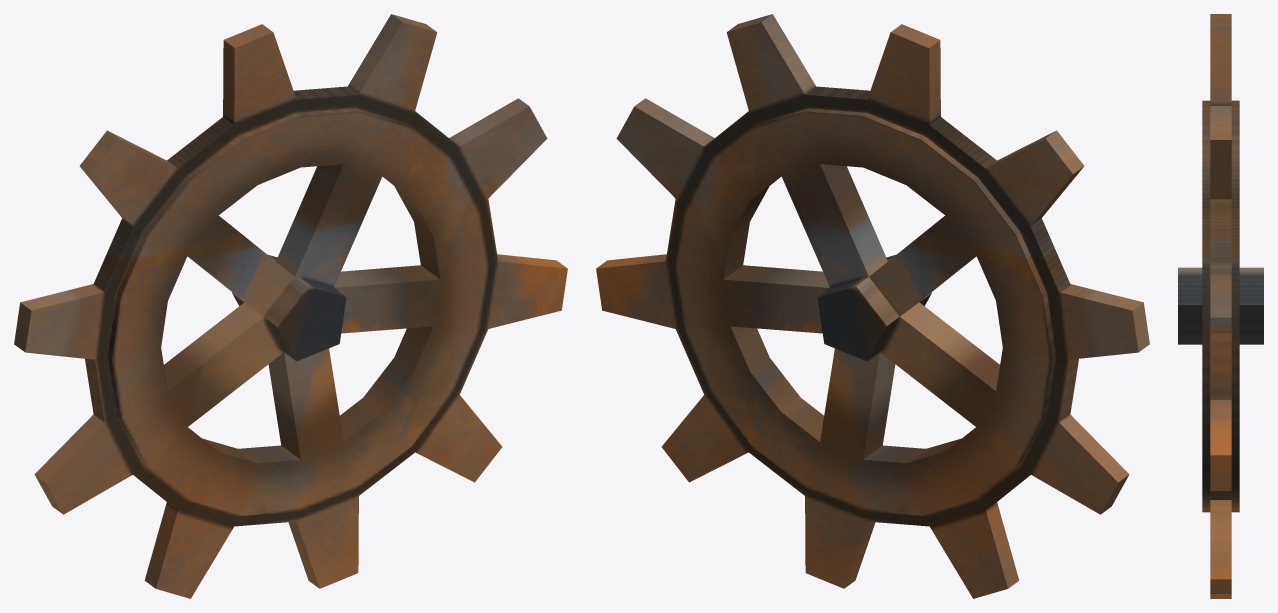
Rendered from prop_BG03.fbx.
3 views of the same model, side by side, from view 1: azimuth 30°, elevation 25°; view 2: azimuth 150°, elevation 25°; view 3: azimuth 270°, elevation 25° (orthographic). The views are drawn at different scales.
Parts seen in each view (by area): view 1: pPipe2; view 2: pPipe2; view 3: pPipe2.
Part boxes in pixels (x1,y1,x2,y2): pPipe2: [14, 14, 567, 598]; pPipe2: [596, 14, 1149, 598]; pPipe2: [1178, 14, 1263, 598].
Bounding box in the file's own units: 5.51 × 5.51 × 0.795.
